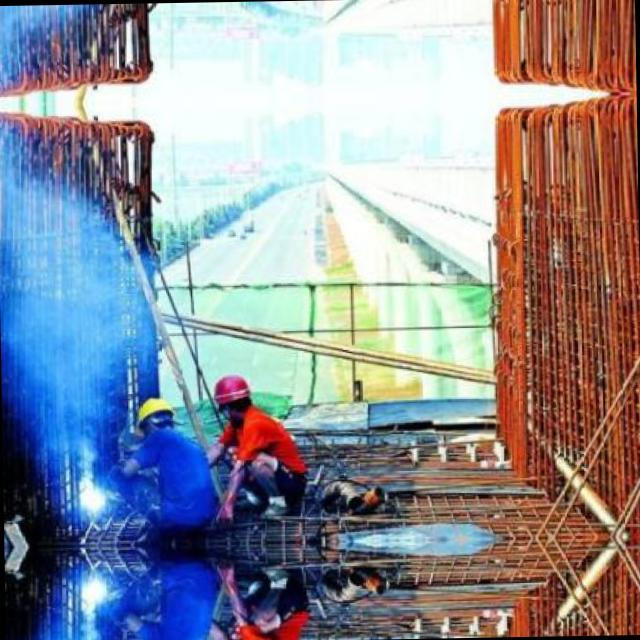helmet: (208, 369, 252, 416), (130, 395, 175, 436)
